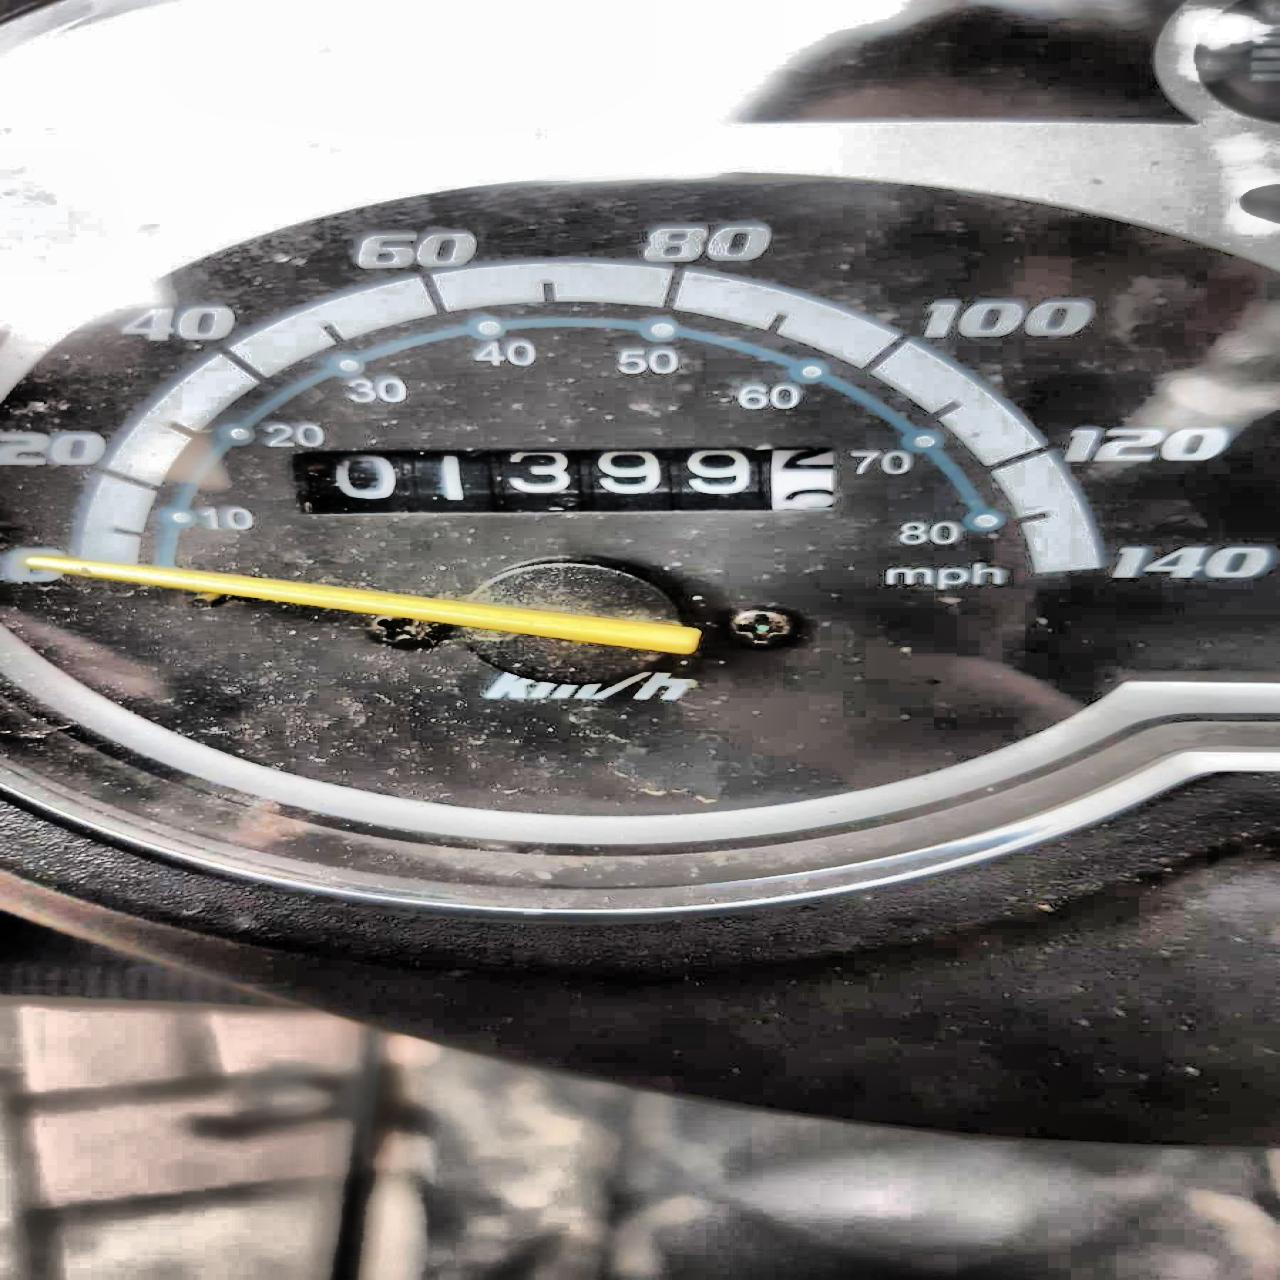0: (332, 452, 406, 499)
1: (431, 451, 472, 504)
2: (777, 440, 837, 477)
3: (505, 449, 579, 501)
9: (597, 447, 667, 498), (685, 447, 749, 498)
odometer: (279, 443, 850, 520)
